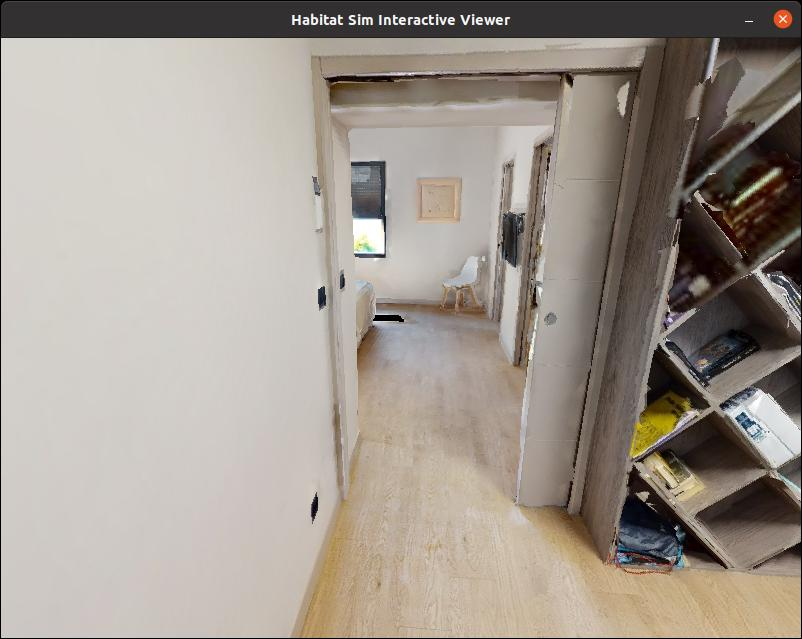chair: (419, 237, 498, 331)
door-frame: (311, 63, 598, 527)
